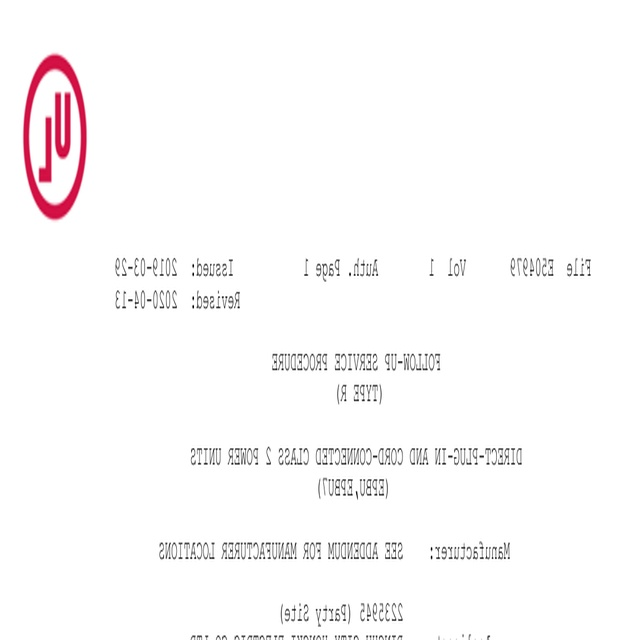ul: (24, 54, 87, 222)
